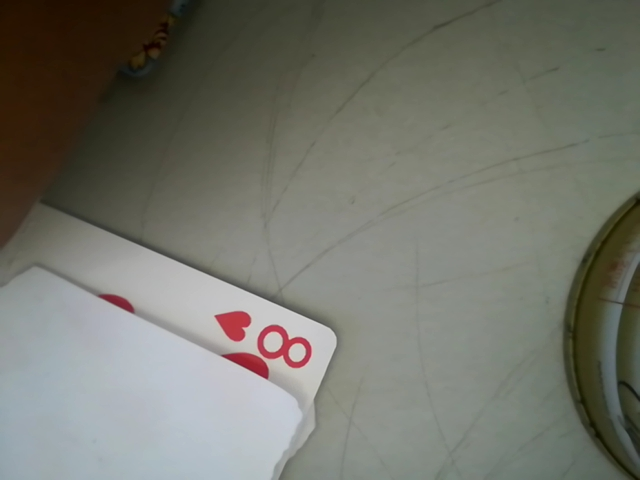hx 8: (207, 304, 326, 385)
